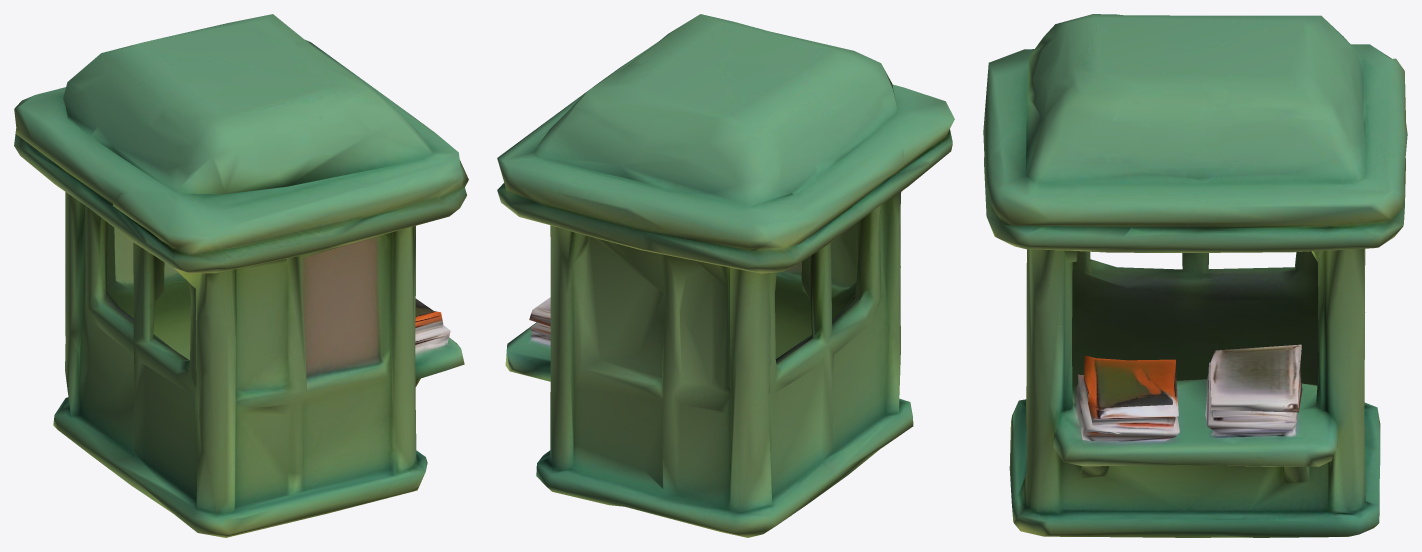
File: kiosk.glb
3 renders of one model, left to right at view 1: azimuth 30°, elevation 25°; view 2: azimuth 150°, elevation 25°; view 3: azimuth 270°, elevation 25°, orthographic. The views are drawn at different scales.
Parts seen in each view (by area): view 1: tripo_node_3b6cf3ac-a1d8-492b-90a2-460096c4a36c; view 2: tripo_node_3b6cf3ac-a1d8-492b-90a2-460096c4a36c; view 3: tripo_node_3b6cf3ac-a1d8-492b-90a2-460096c4a36c.
Boxes of the visible parts, x1=… form: tripo_node_3b6cf3ac-a1d8-492b-90a2-460096c4a36c: x1=14, y1=14, x2=468, y2=537; tripo_node_3b6cf3ac-a1d8-492b-90a2-460096c4a36c: x1=497, y1=14, x2=954, y2=537; tripo_node_3b6cf3ac-a1d8-492b-90a2-460096c4a36c: x1=983, y1=14, x2=1407, y2=537.
Bounding box in the file's own units: 0.8612 × 1 × 0.889.
1 material, 1 textured.
